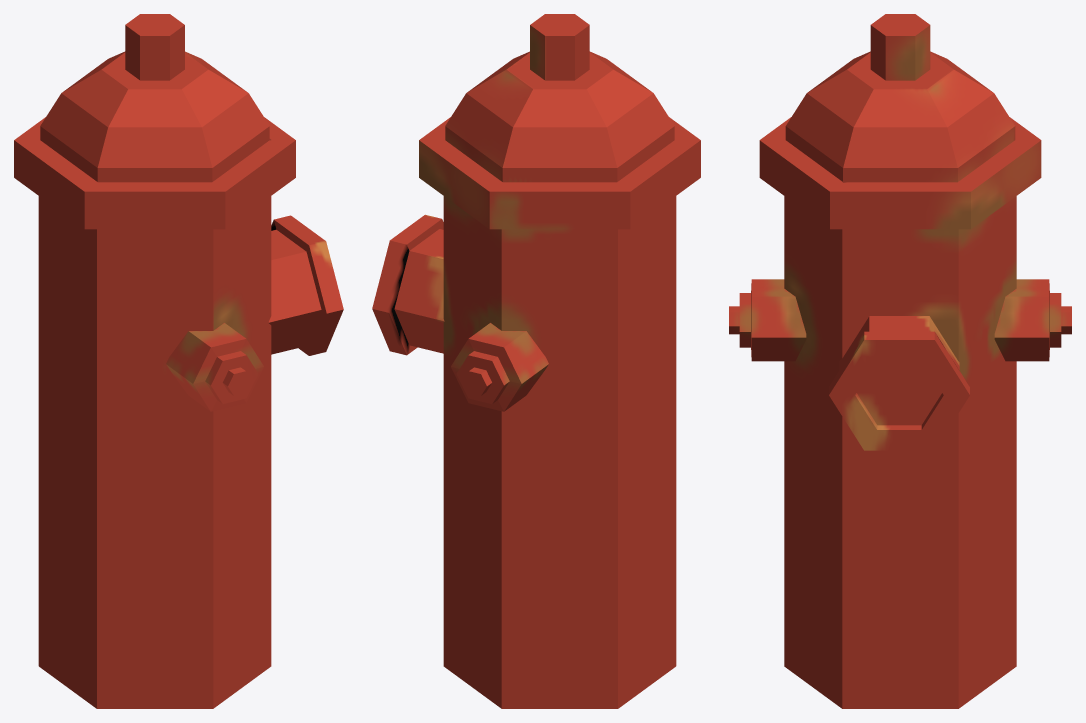
File: fbFireHydrant.fbx
3 renders of one model, left to right at view 1: azimuth 30°, elevation 25°; view 2: azimuth 150°, elevation 25°; view 3: azimuth 270°, elevation 25°, orthographic.
Parts seen in each view (by area): view 1: Cylinder.006; view 2: Cylinder.006; view 3: Cylinder.006.
Boxes of the visible parts, x1,y1,x2,y2 form: Cylinder.006: (14, 14, 343, 708); Cylinder.006: (372, 14, 700, 708); Cylinder.006: (729, 14, 1071, 708).
Bounding box in the file's own units: 51.51 × 122 × 59.13.
